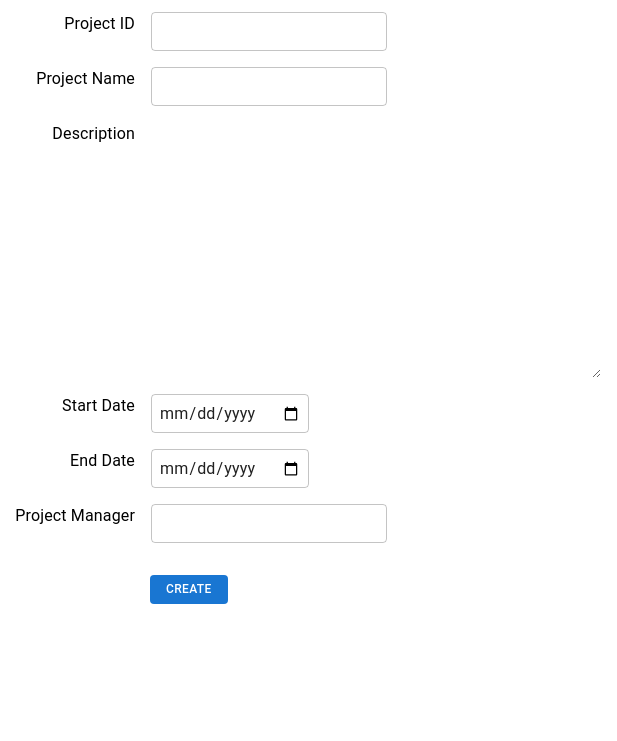
Scenario: ProjectCreate Component › should show an error if required fields are not filled
Step 1. Click the button "Create" → x=189, y=590, box [150,575,228,604]
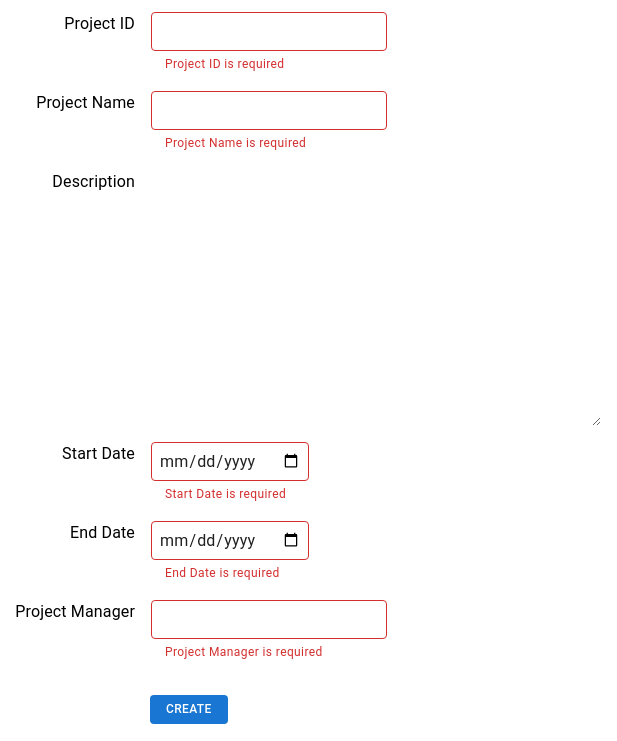
Now the text "Project ID is required" is shown, box [165,57,284,71]
Now the text "Project Name is required" is shown, box [165,136,306,150]
Now the text "Start Date is required" is shown, box [165,485,295,505]
